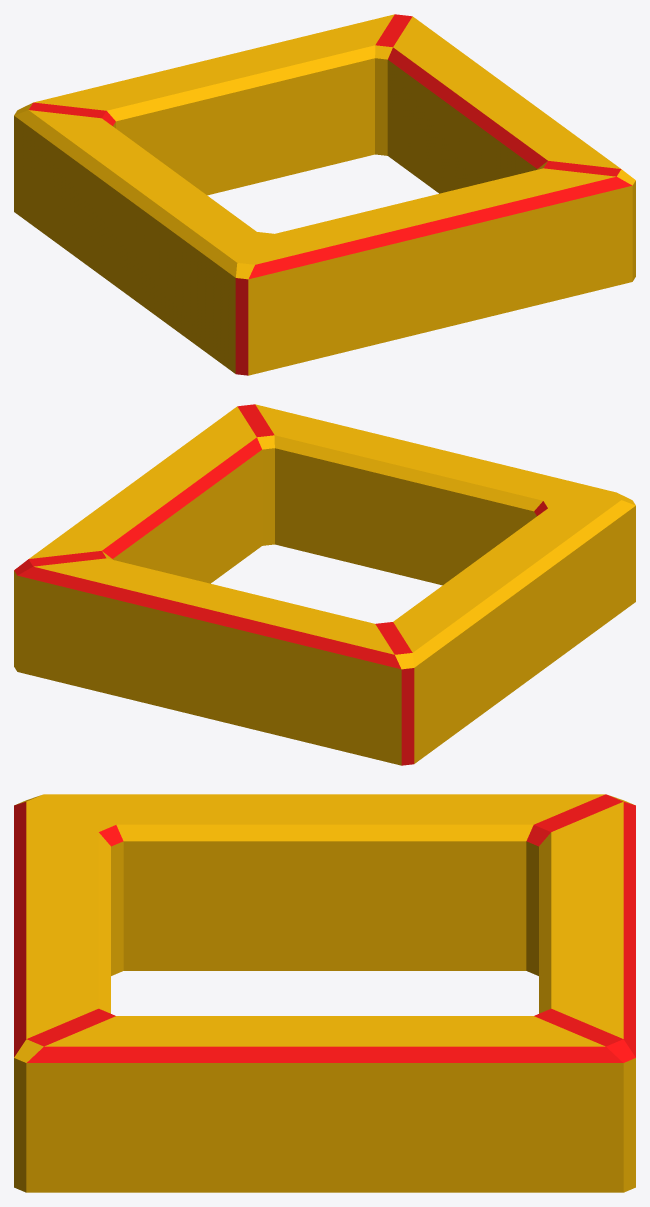
The model's file is Square_ResetButton_Base_01_.fbx.
3 views of the same model, one above another, from view 1: azimuth 30°, elevation 25°; view 2: azimuth 150°, elevation 25°; view 3: azimuth 270°, elevation 25° (orthographic). The views are drawn at different scales.
Visible parts, largest first — view 1: Square_ResetButton_Base_01_; view 2: Square_ResetButton_Base_01_; view 3: Square_ResetButton_Base_01_.
Boxes of the visible parts, left/top/right/bottom form: Square_ResetButton_Base_01_: left=14, top=14, right=635, bottom=375; Square_ResetButton_Base_01_: left=14, top=404, right=635, bottom=765; Square_ResetButton_Base_01_: left=14, top=794, right=635, bottom=1192.
Size of the model in its own units: 100 by 25 by 100.
